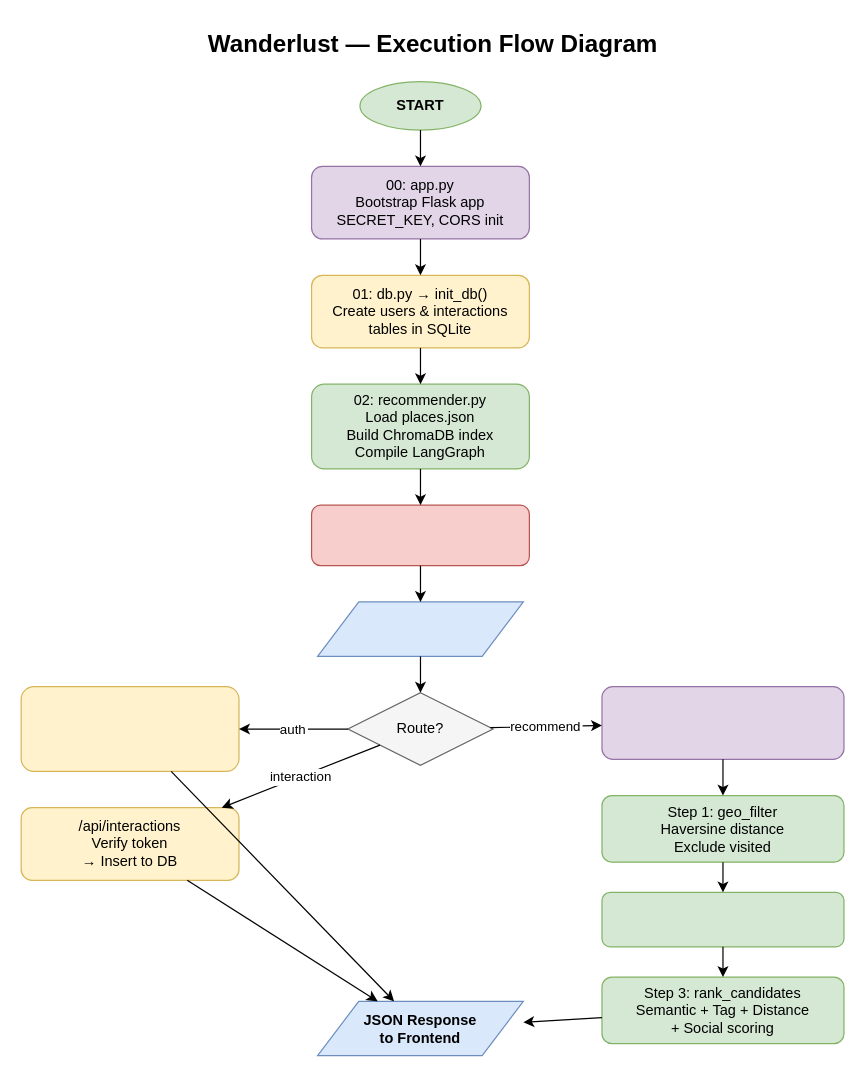
Some shapes in this 865 by 1077 pixel diagram are drawn without their labels. Here are the shapes that lost their labels. From the top down, the centre of each, then its label:
At (x=419, y=535): "Flask server listening 0.0.0.0:5001".
At (x=419, y=628): "HTTP Request arrives".
At (x=129, y=728): "/api/auth/* Register / Login → SQLite read/write → Return token".
At (x=722, y=722): "/api/recommendations/* Verify token (cascade) Load user profile".
At (x=722, y=919): "Step 2: profile_filter Age, biker, difficulty".
